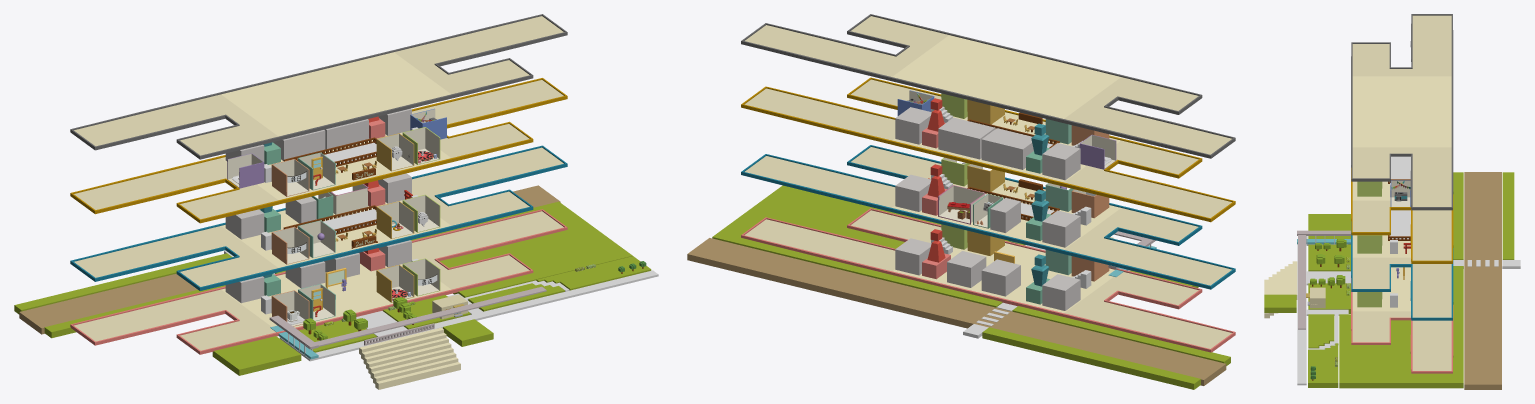
Rendered from souzou6.glb.
The picture shows the model from 3 angles, left to right: view 1: azimuth 30°, elevation 25°; view 2: azimuth 150°, elevation 25°; view 3: azimuth 270°, elevation 25°; orthographic projection. The views are drawn at different scales.
Visible parts, largest first — view 1: F4, ground, F1, F2, F3, 立方体.001, 3_other, 1_other, 2_other, 立方体.002, 3_3, 3_1 (+17 smaller); view 2: F4, F1, F2, F3, 立方体.001, ground, 3_other, 1_other, 2_other, 立方体.002, 立方体, 2_5 (+20 smaller); view 3: F4, ground, 立方体.001, F1, F2, F3, 立方体.002, 立方体, 3_6, invisible2, 2_4, invisible5 (+3 smaller).
Part boxes in pixels (x1,y1,x2,y2): F4: (70, 14, 567, 159); ground: (212, 201, 658, 389); F1: (70, 209, 567, 354); F2: (70, 145, 567, 290); F3: (70, 78, 567, 223); 立方体.001: (19, 185, 560, 334); 3_other: (225, 108, 411, 161); 1_other: (225, 240, 411, 303); 2_other: (225, 173, 411, 239); 立方体.002: (14, 253, 232, 314); 3_3: (376, 133, 414, 171); 3_1: (271, 159, 309, 196); F4: (741, 14, 1235, 158); F1: (741, 208, 1235, 352); F2: (741, 145, 1235, 289); F3: (741, 77, 1235, 222); 立方体.001: (687, 238, 1226, 385); ground: (712, 185, 1198, 307); 3_other: (895, 107, 1080, 180); 1_other: (895, 238, 1080, 310); 2_other: (895, 174, 1080, 247); 立方体.002: (982, 327, 1200, 389); 立方体: (1012, 306, 1230, 365); 2_5: (938, 185, 985, 224); F4: (1351, 14, 1453, 210); ground: (1264, 214, 1463, 388); 立方体.001: (1464, 172, 1501, 389); F1: (1351, 267, 1453, 373); F2: (1351, 221, 1453, 320); F3: (1351, 168, 1453, 263); 立方体.002: (1502, 172, 1514, 259); 立方体: (1453, 172, 1463, 259); 3_6: (1390, 180, 1410, 206); invisible2: (1390, 210, 1410, 239); 2_4: (1357, 235, 1382, 253); invisible5: (1391, 156, 1410, 179).
Bounding box in the file's own units: 176 × 73.39 × 89.51.
